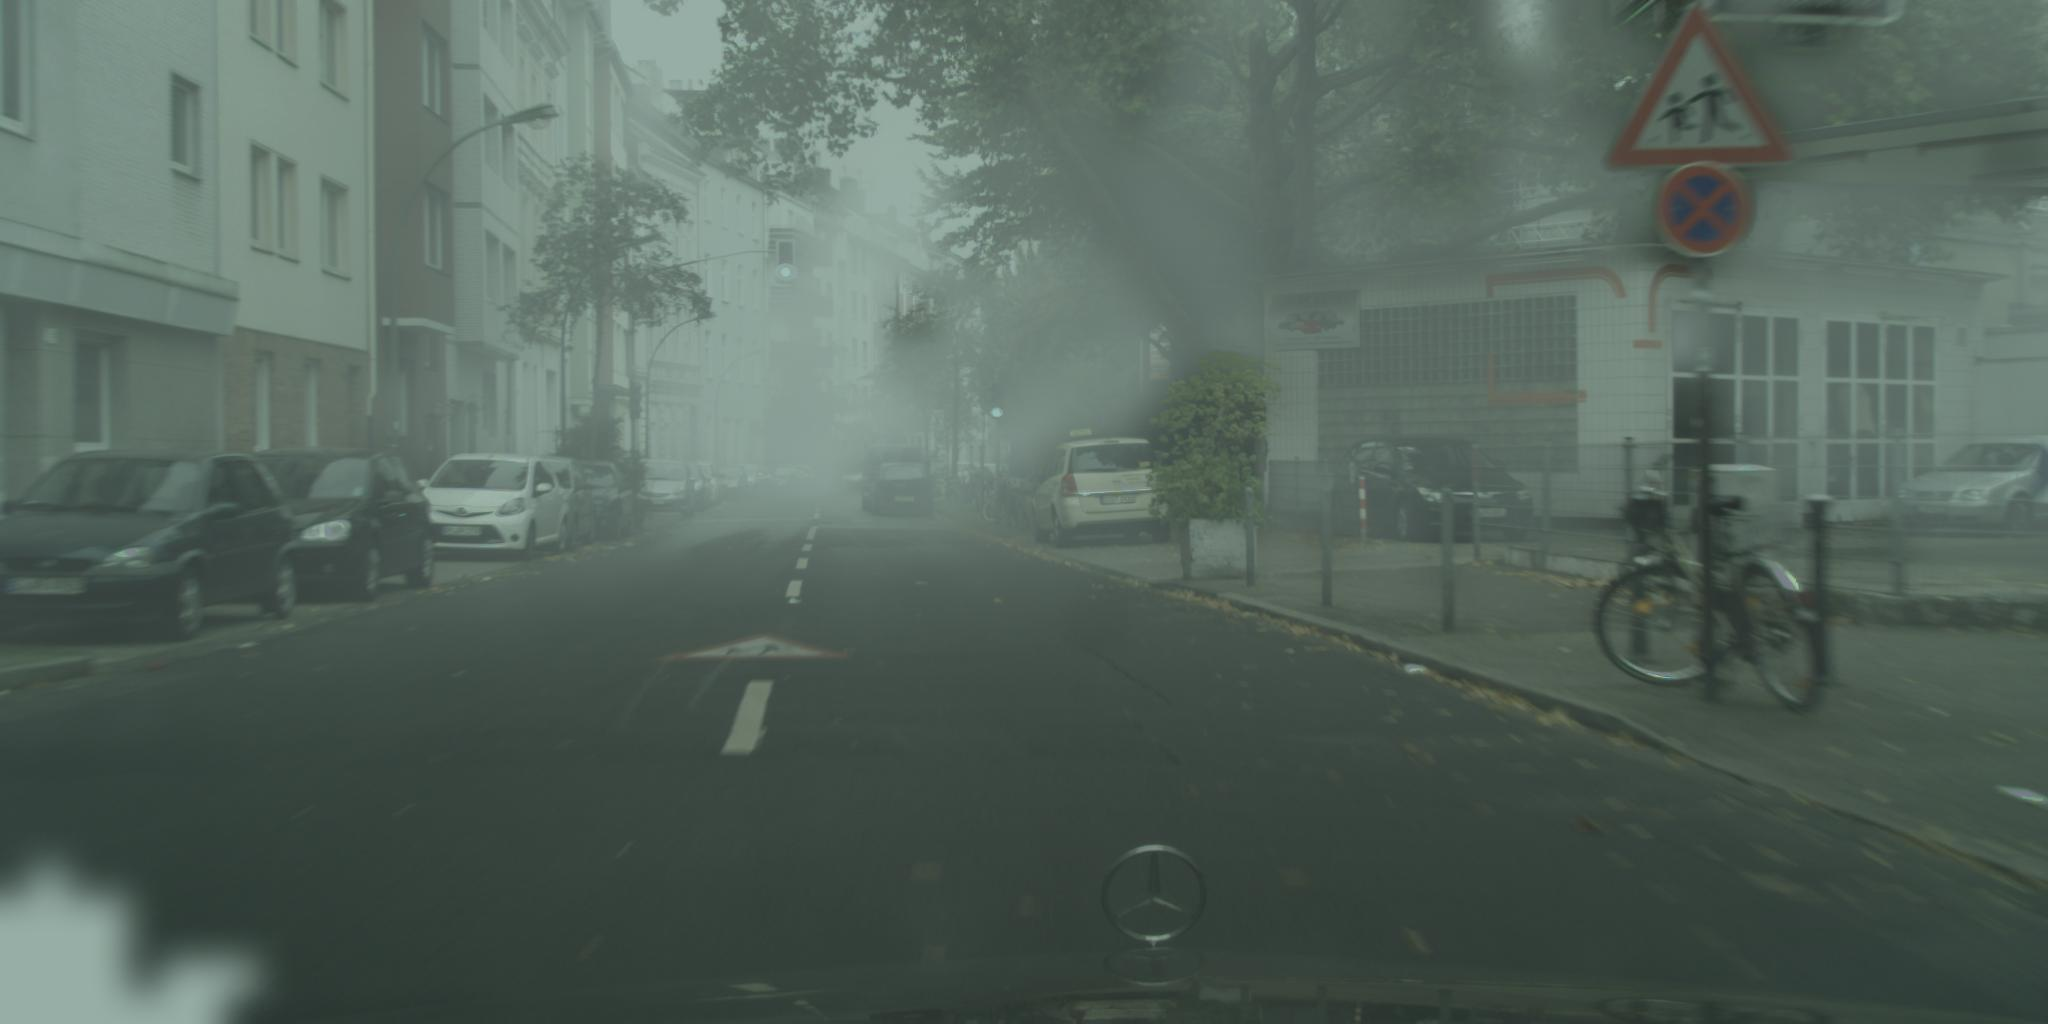bicycle: (1593, 483, 1825, 712), (984, 479, 1031, 532)
car: (1, 451, 299, 644), (252, 449, 436, 603), (1334, 435, 1510, 545), (415, 453, 572, 564), (1028, 430, 1173, 549), (532, 456, 598, 552), (577, 461, 639, 543), (862, 445, 933, 513), (870, 462, 934, 519), (639, 458, 697, 519), (731, 464, 775, 500), (712, 465, 751, 502), (842, 468, 869, 491)
